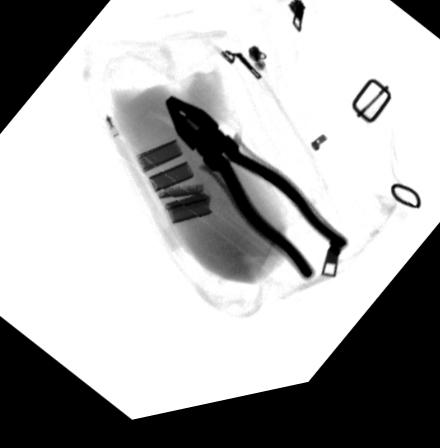Pliers: (162, 102, 349, 295)
